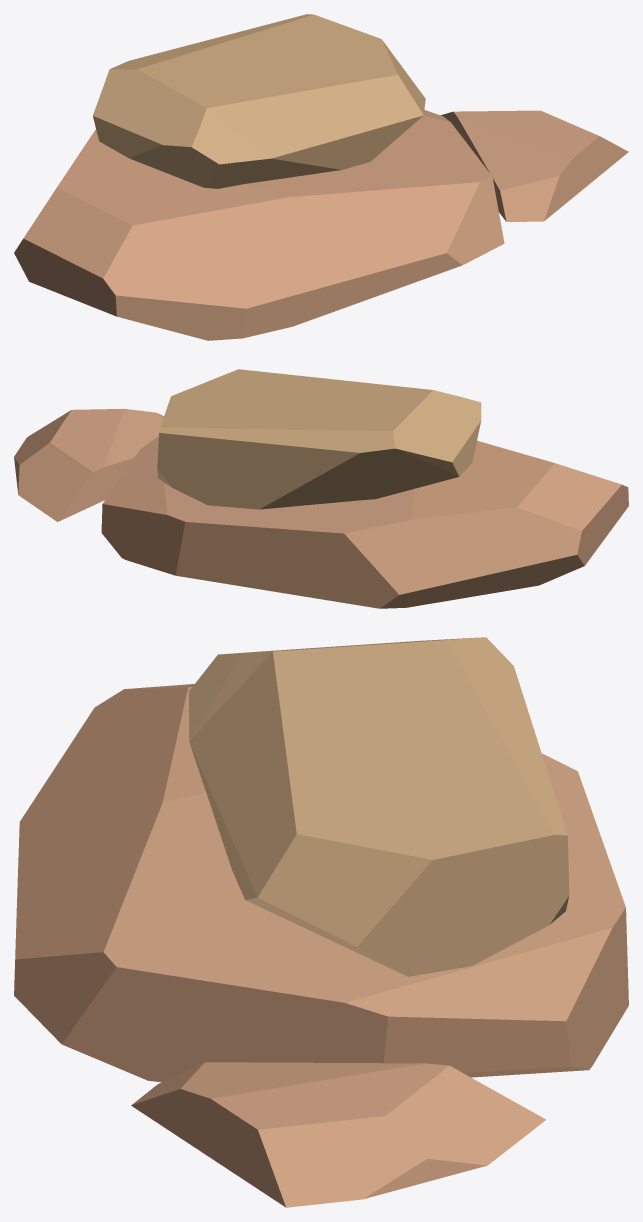
File: Rocks_Flat_m_01.fbx
The picture shows the model from 3 angles, top to bottom: view 1: azimuth 30°, elevation 25°; view 2: azimuth 150°, elevation 25°; view 3: azimuth 270°, elevation 25°; orthographic projection. The views are drawn at different scales.
Visible parts, largest first — view 1: Rocks_Flat_m_01; view 2: Rocks_Flat_m_01; view 3: Rocks_Flat_m_01.
Part boxes in pixels (box(x1,y1,x2,y2)): Rocks_Flat_m_01: box(14, 14, 628, 340); Rocks_Flat_m_01: box(14, 369, 628, 608); Rocks_Flat_m_01: box(14, 637, 628, 1207).
Size of the model in its own units: 220 by 55.99 by 126.
